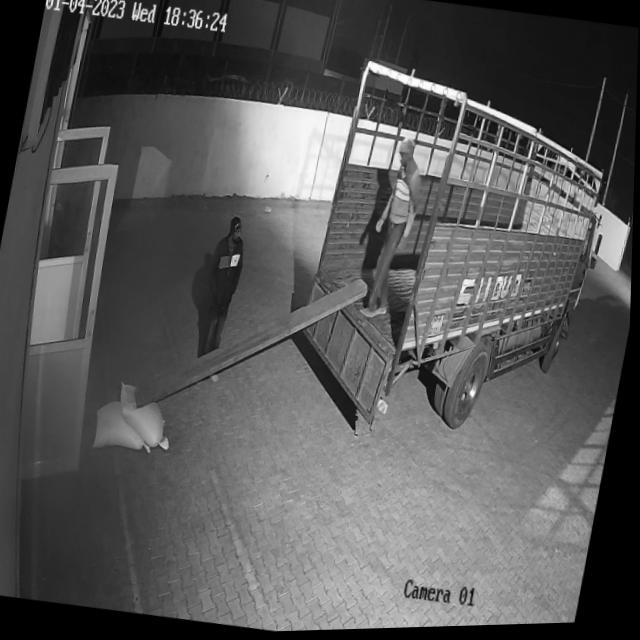sack: (113, 381, 183, 452), (92, 397, 160, 456)
